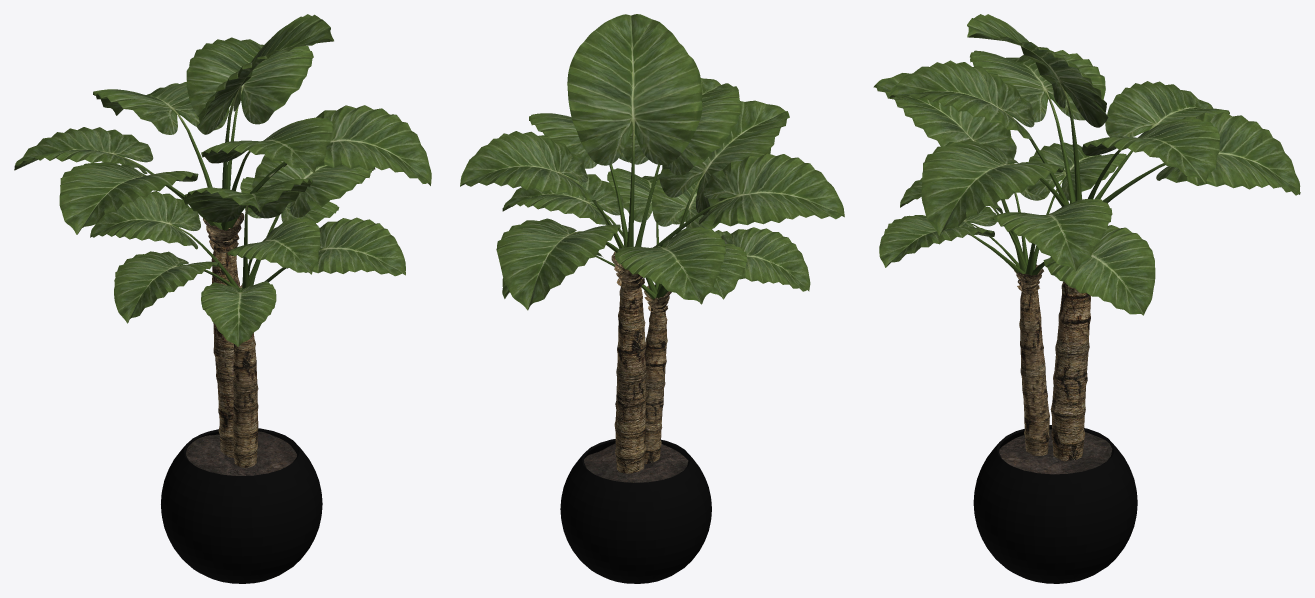
The model's file is plant.fbx.
3 views of the same model, side by side, from view 1: azimuth 30°, elevation 25°; view 2: azimuth 150°, elevation 25°; view 3: azimuth 270°, elevation 25° (orthographic). The views are drawn at different scales.
Visible parts, largest first — view 1: Polygon_Objekt_2, Polygon_Objekt, Polygon_Objekt_3, Polygon_Objekt_4; view 2: Polygon_Objekt_2, Polygon_Objekt, Polygon_Objekt_3, Polygon_Objekt_4; view 3: Polygon_Objekt_2, Polygon_Objekt, Polygon_Objekt_3, Polygon_Objekt_4.
Boxes of the visible parts, x1,y1,x2,y2 form: Polygon_Objekt_2: (14,14,431,346); Polygon_Objekt: (161,428,322,583); Polygon_Objekt_3: (203,213,258,467); Polygon_Objekt_4: (186,431,296,475); Polygon_Objekt_2: (460,14,844,310); Polygon_Objekt: (560,439,711,583); Polygon_Objekt_3: (611,252,671,473); Polygon_Objekt_4: (584,443,688,482); Polygon_Objekt_2: (873,14,1300,315); Polygon_Objekt: (973,425,1137,583); Polygon_Objekt_3: (1014,264,1090,461); Polygon_Objekt_4: (999,429,1112,474).
Size of the model in its own units: 24.57 by 38.41 by 26.61.
4 materials, 3 textured.
